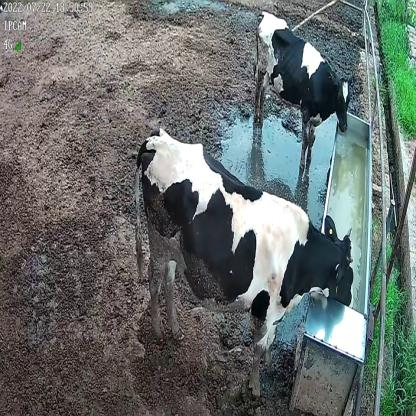cow: (133, 124, 355, 391), (253, 13, 354, 168)
